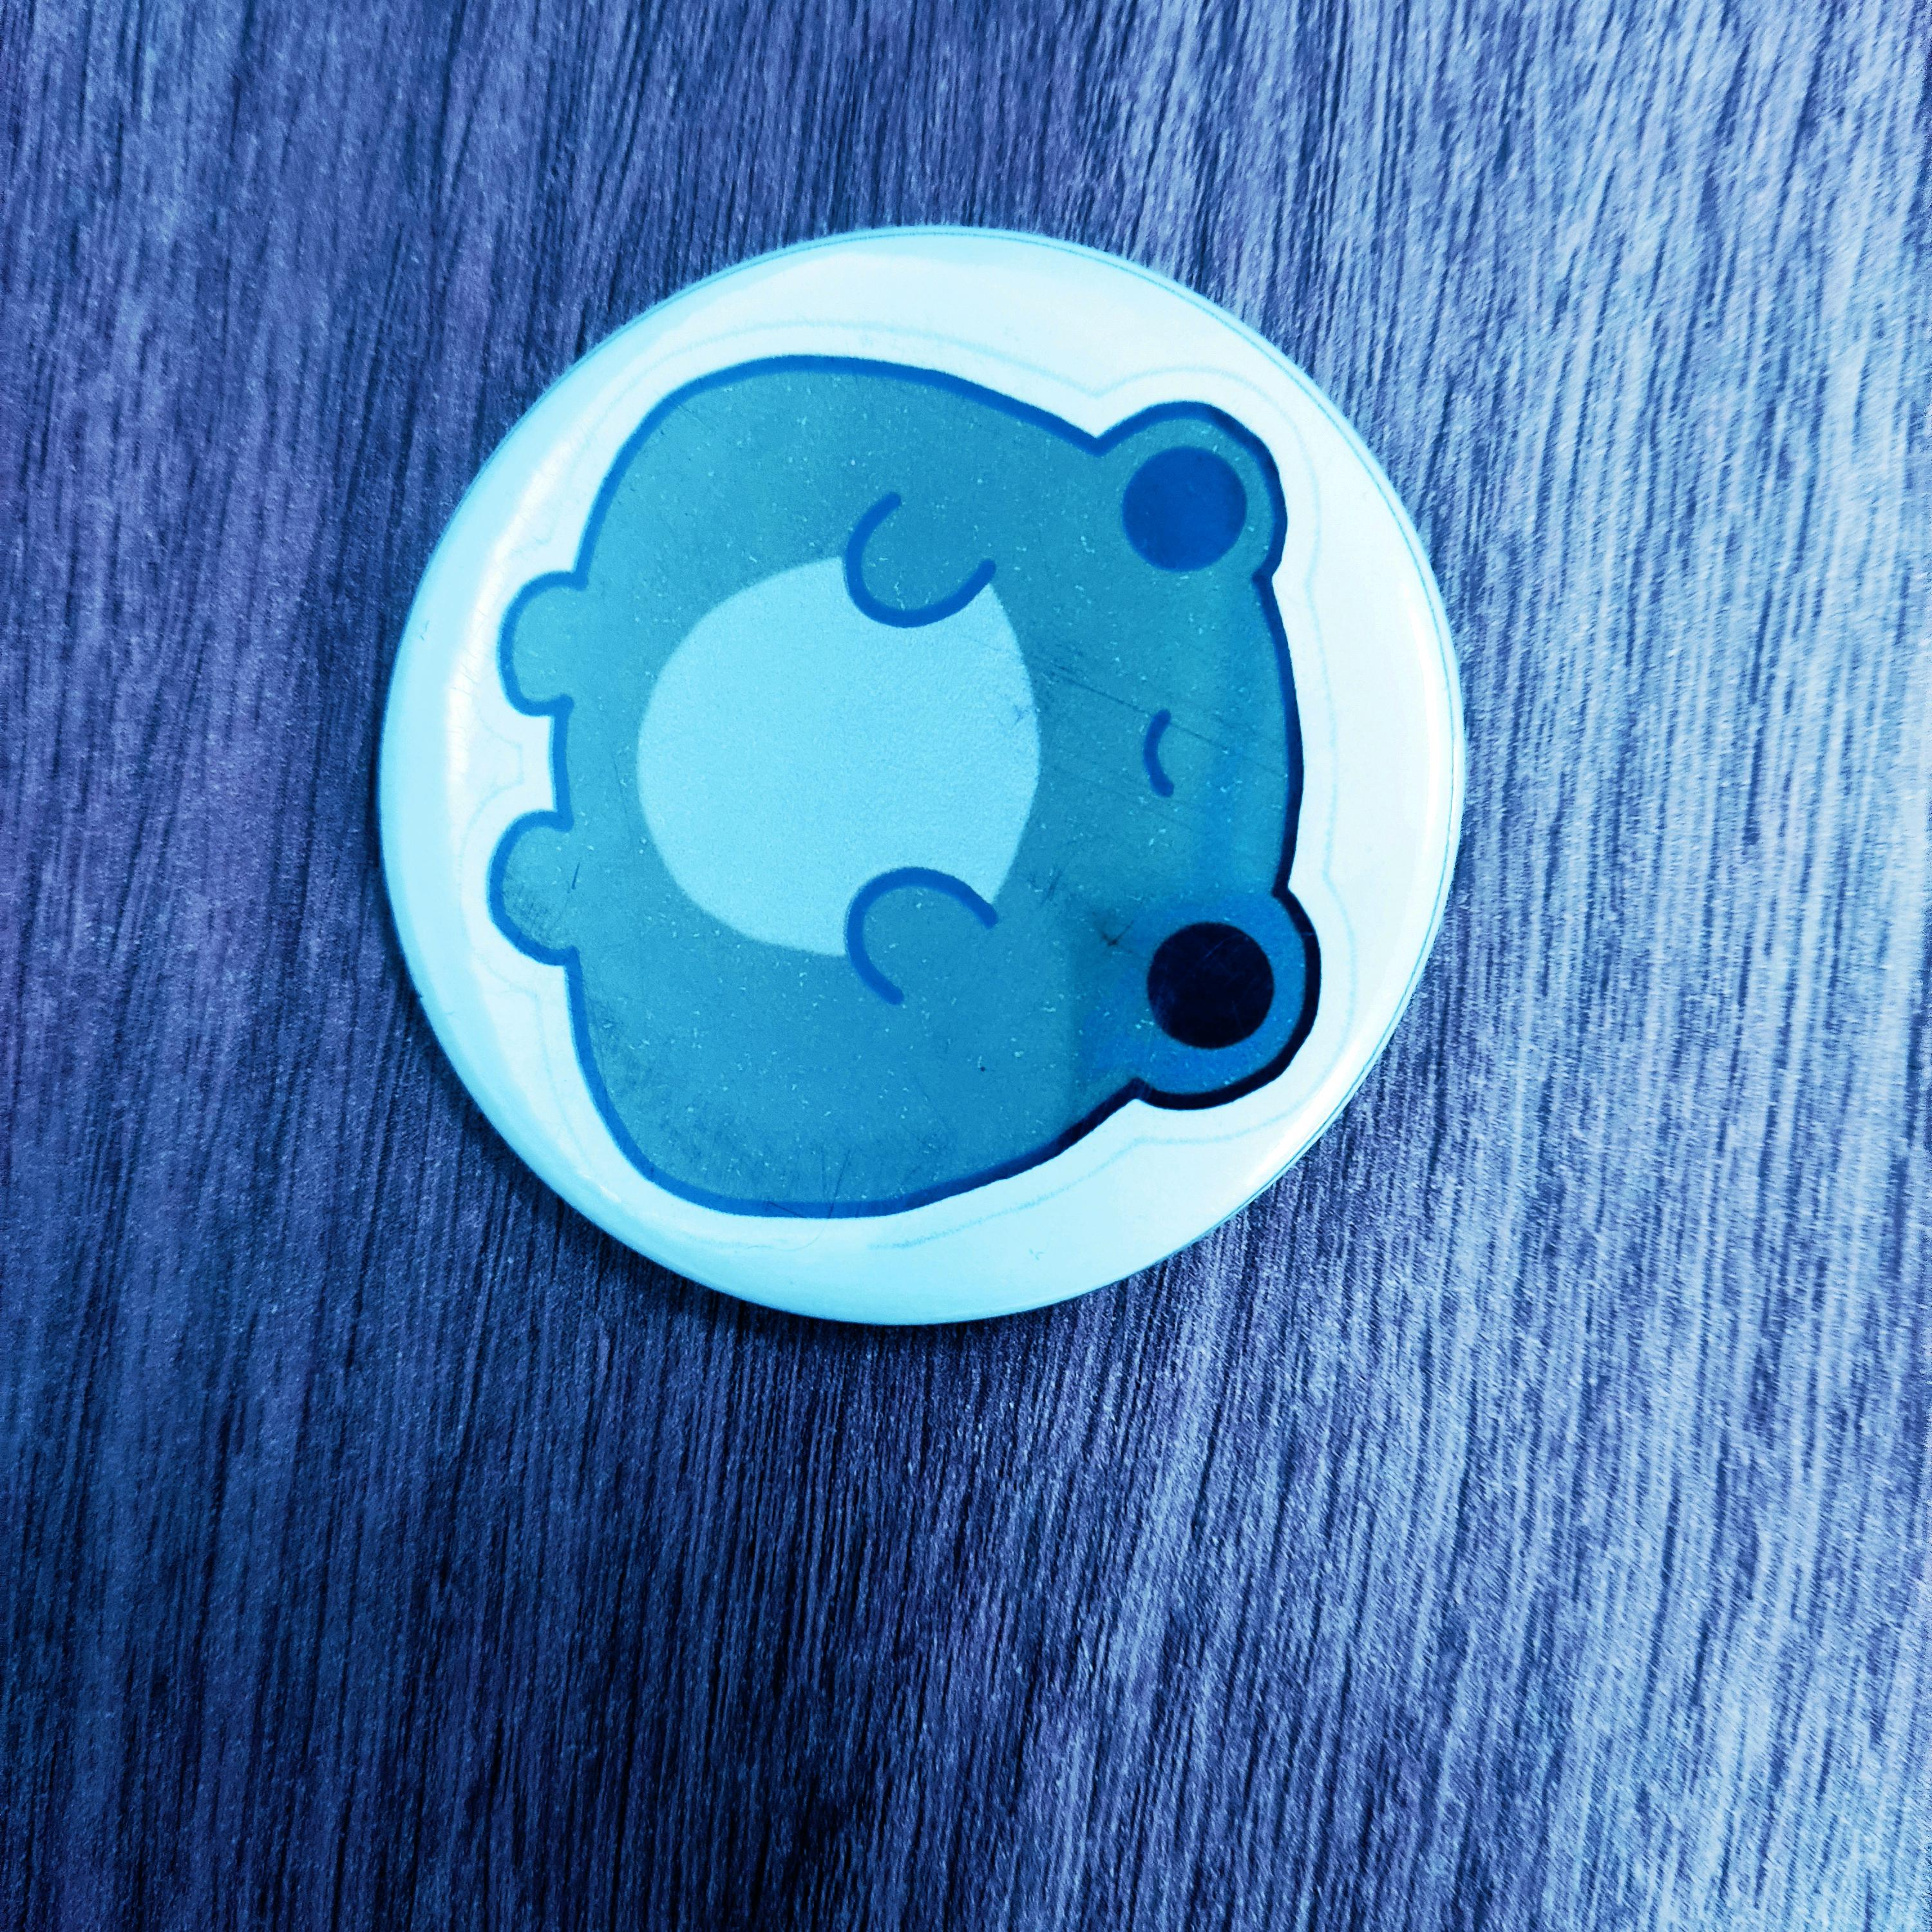pin: (361, 202, 1511, 1368)
